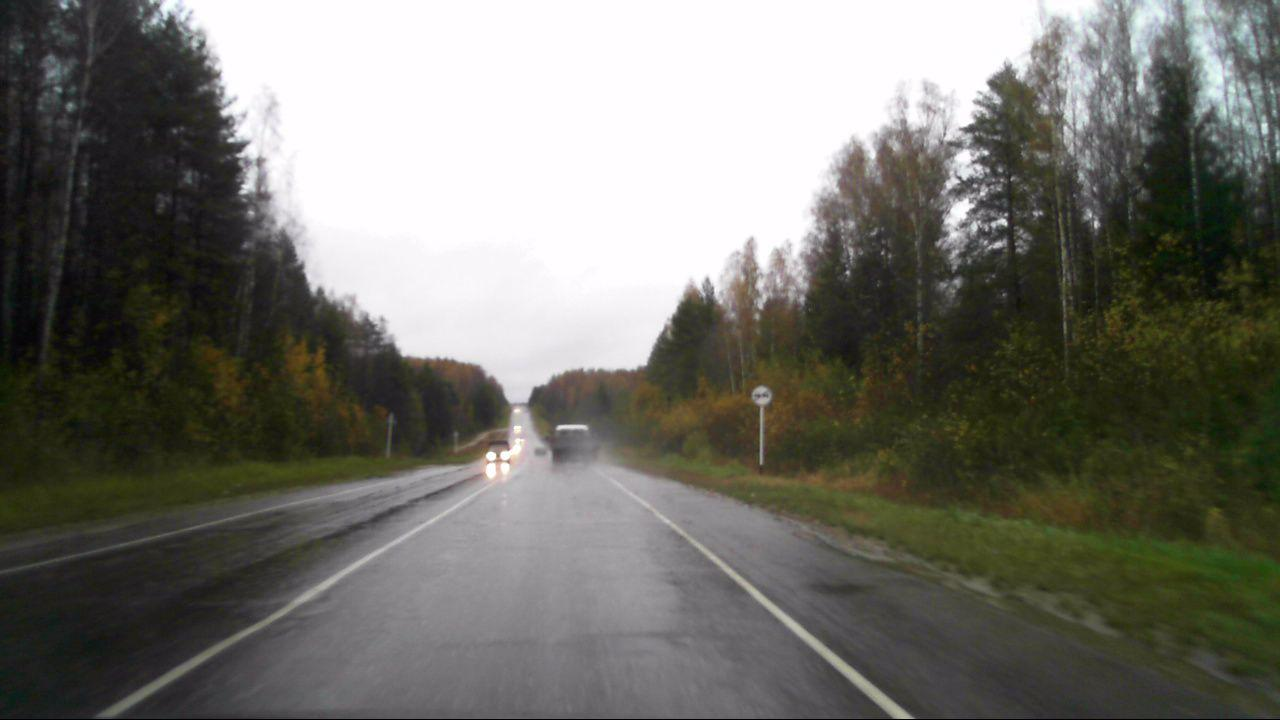3_21: (750, 383, 774, 406)
